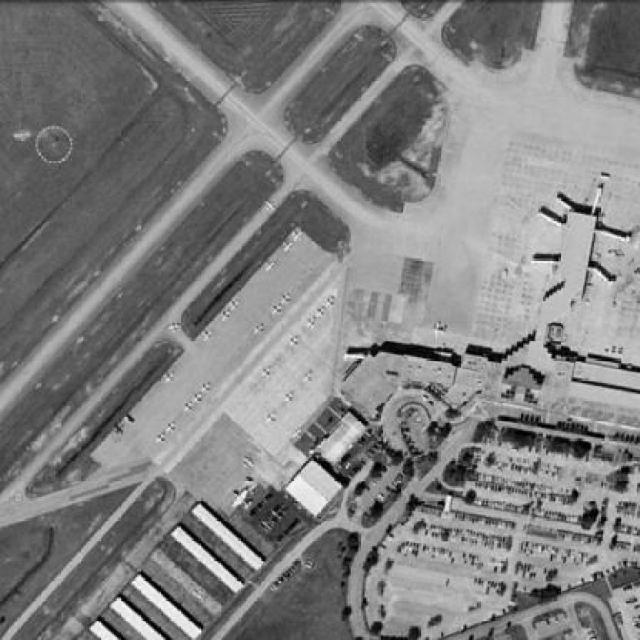airplane: (231, 489, 254, 513), (432, 321, 448, 339), (299, 371, 317, 386), (241, 456, 255, 473), (289, 231, 305, 245), (263, 260, 279, 274), (288, 336, 302, 351), (313, 307, 329, 320), (112, 423, 126, 437), (283, 390, 297, 404), (263, 199, 277, 213), (219, 310, 232, 324), (163, 372, 177, 385), (270, 303, 284, 316), (281, 240, 293, 254), (229, 299, 241, 313), (200, 329, 214, 341), (255, 324, 267, 338), (264, 410, 276, 424), (290, 429, 304, 441), (165, 421, 177, 435), (325, 297, 337, 310), (169, 321, 180, 335), (280, 293, 291, 307), (261, 366, 272, 380), (183, 402, 194, 416), (156, 433, 167, 447), (307, 317, 318, 330), (199, 383, 212, 394), (192, 395, 203, 406)
